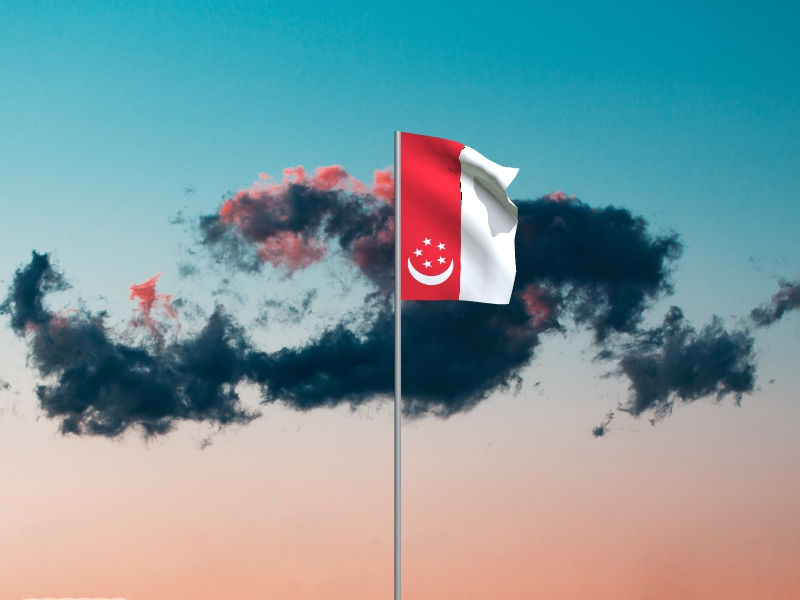sg: (400, 132, 521, 306)
